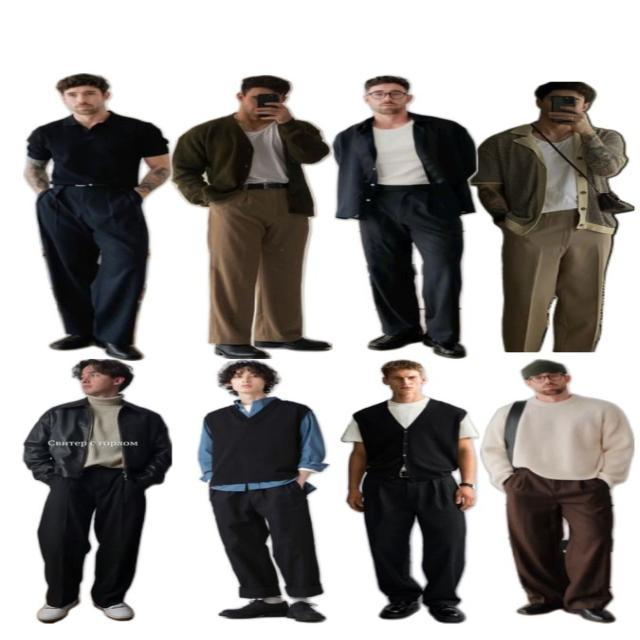person: (170, 74, 332, 360), (470, 81, 634, 353), (22, 73, 170, 360), (478, 358, 634, 622), (332, 74, 477, 358), (22, 358, 172, 624), (340, 359, 480, 623), (196, 360, 328, 622)
